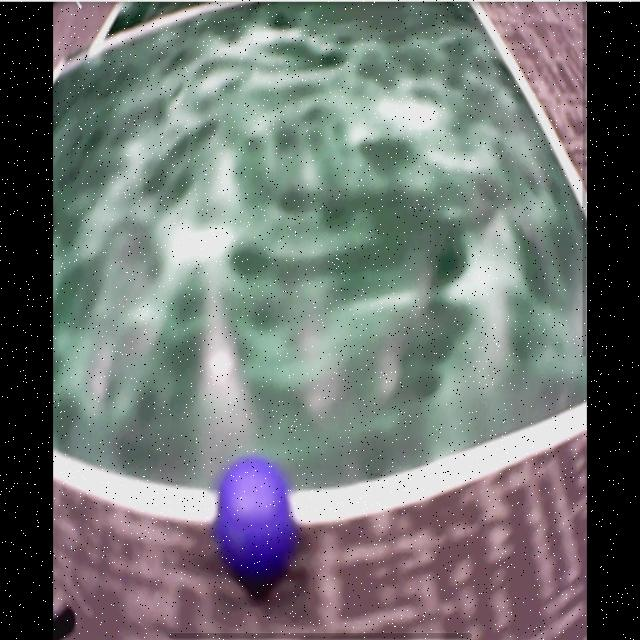ball: (219, 456, 291, 578)
